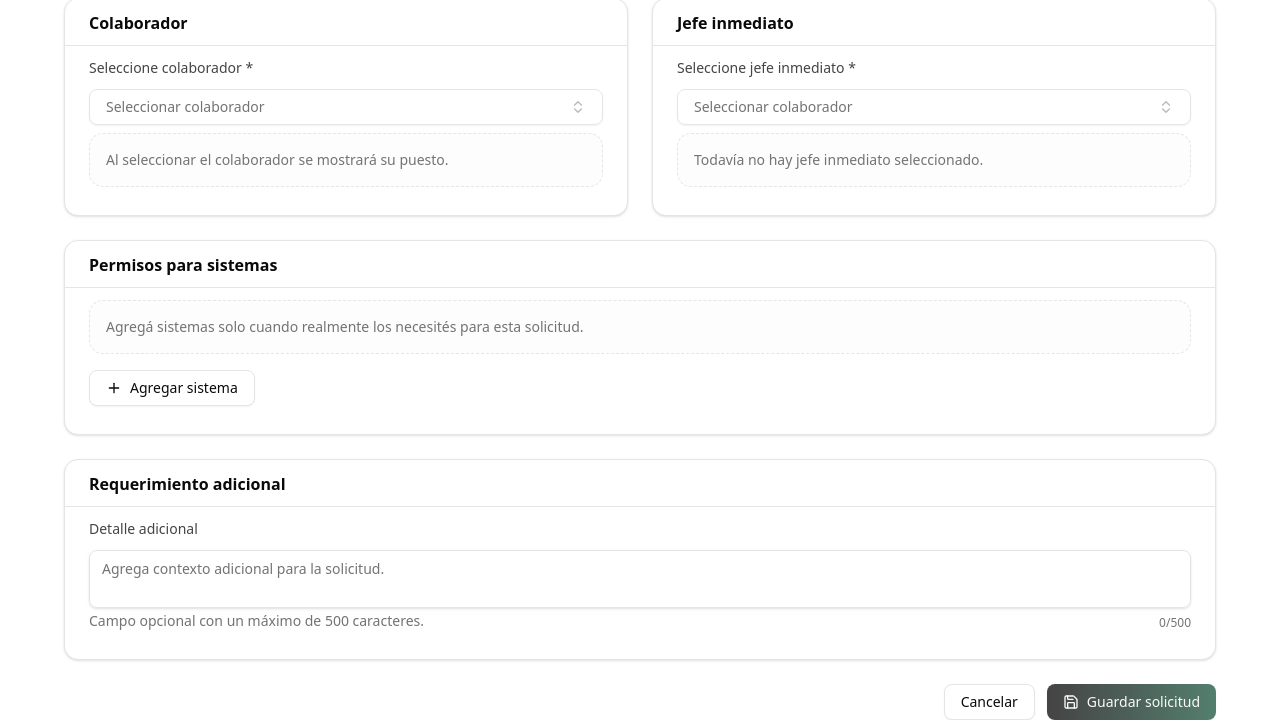
Test: MiAccesoNewRequestPage › renderiza el formulario completo y permite agregar/eliminar sistemas
The width and height of the screenshot is (1280, 720).
(page scrolled)
Expected: the text "0/500" is shown, [1159,615,1191,631]
Click the button "Agregar sistema".
click(172, 388)  # box [89,370,255,406]
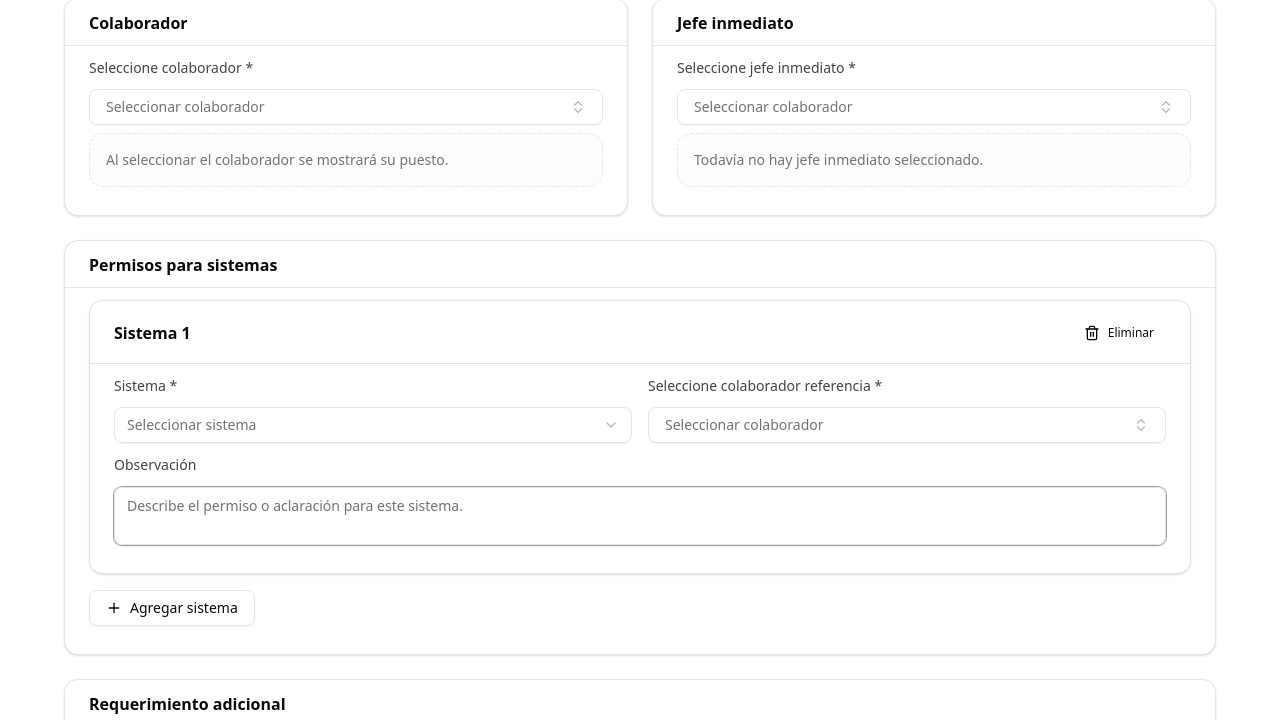
Result: the text "Sistema 1" is shown at [114,321,191,345]
Result: the text "Seleccionar sistema" is shown at [127,415,256,434]
Click the button with aria-label "eliminar sistema 1".
click(1119, 333)  # box [1072,317,1166,349]
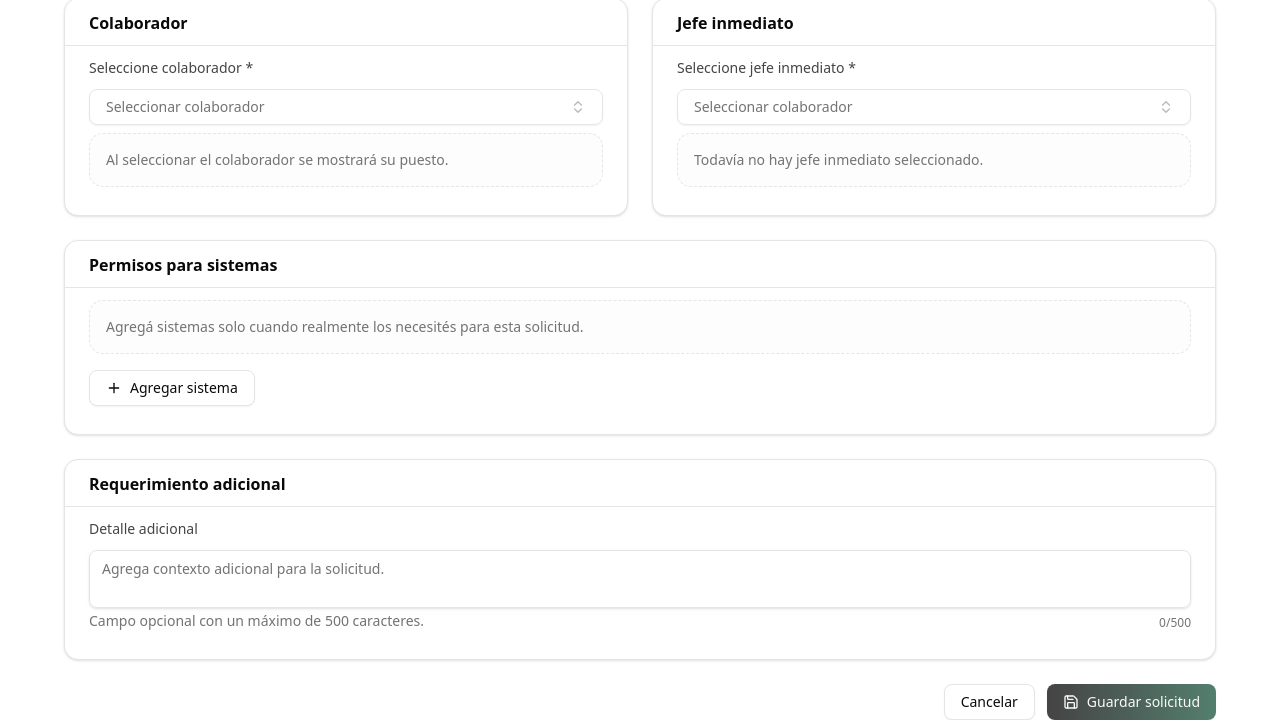
Result: the text "Sistema 1" is gone
